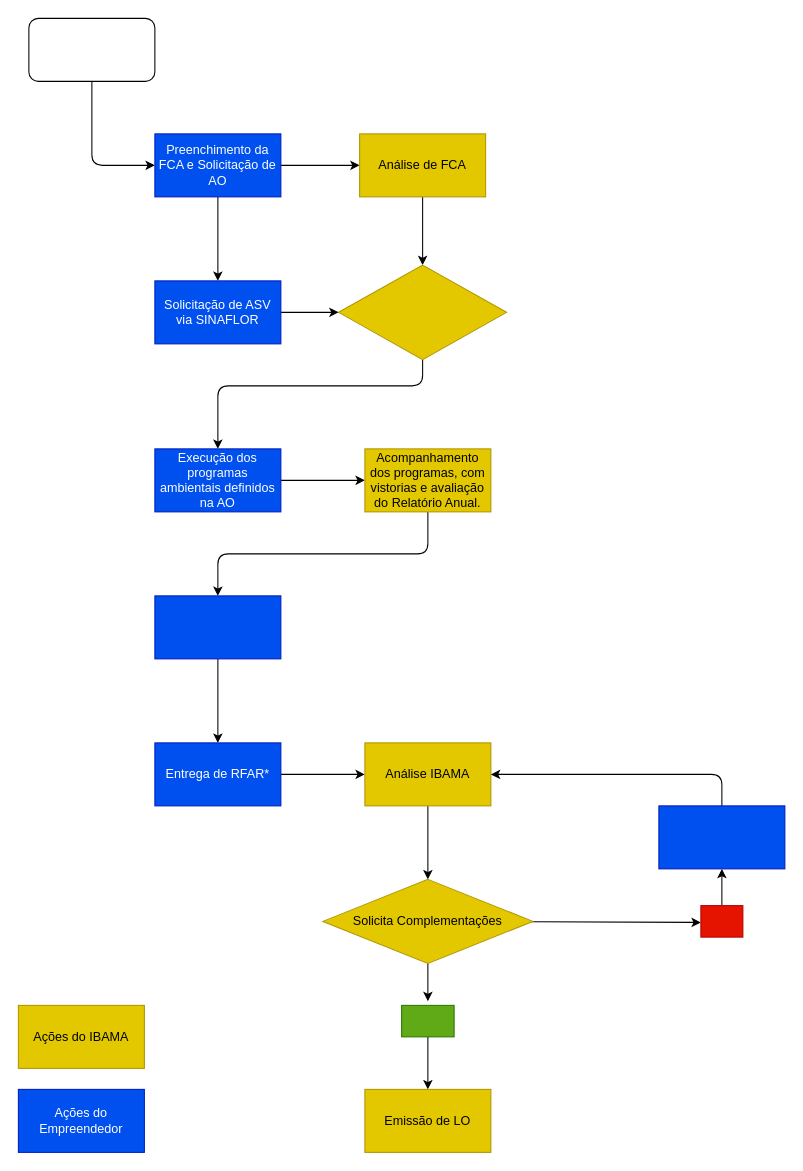
Some shapes in this 803 by 1171 pixel diagram are drawn without their labels. Here are the shapes that lost their labels. From the top down, the centre of each, then its label:
the point at 91,49: Procedimento Específico
the point at 422,312: Emissão de AO e ASV
the point at 217,627: Solicitação de LO
the point at 721,837: Atendimento e cumprimento das medidas solicitadas
the point at 721,921: SIM
the point at 427,1020: Não
